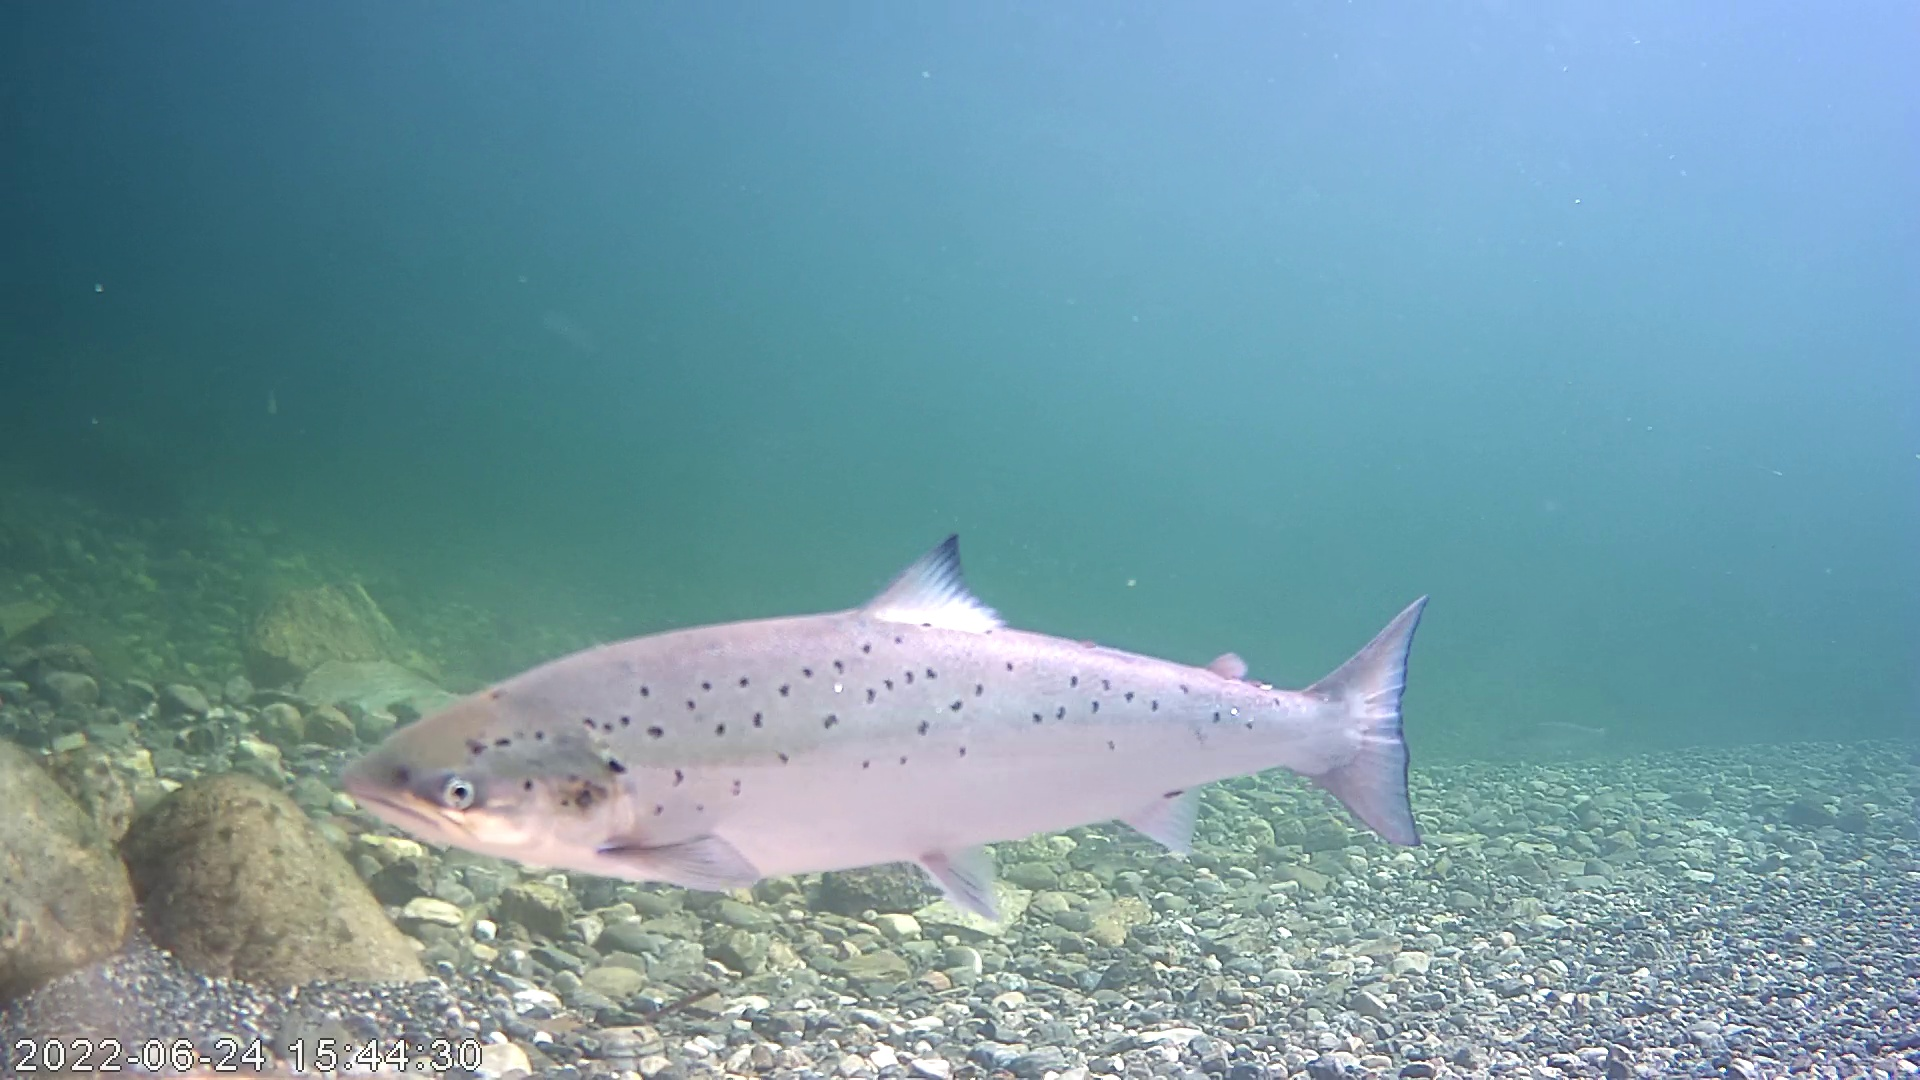salmon: (338, 531, 1432, 920)
